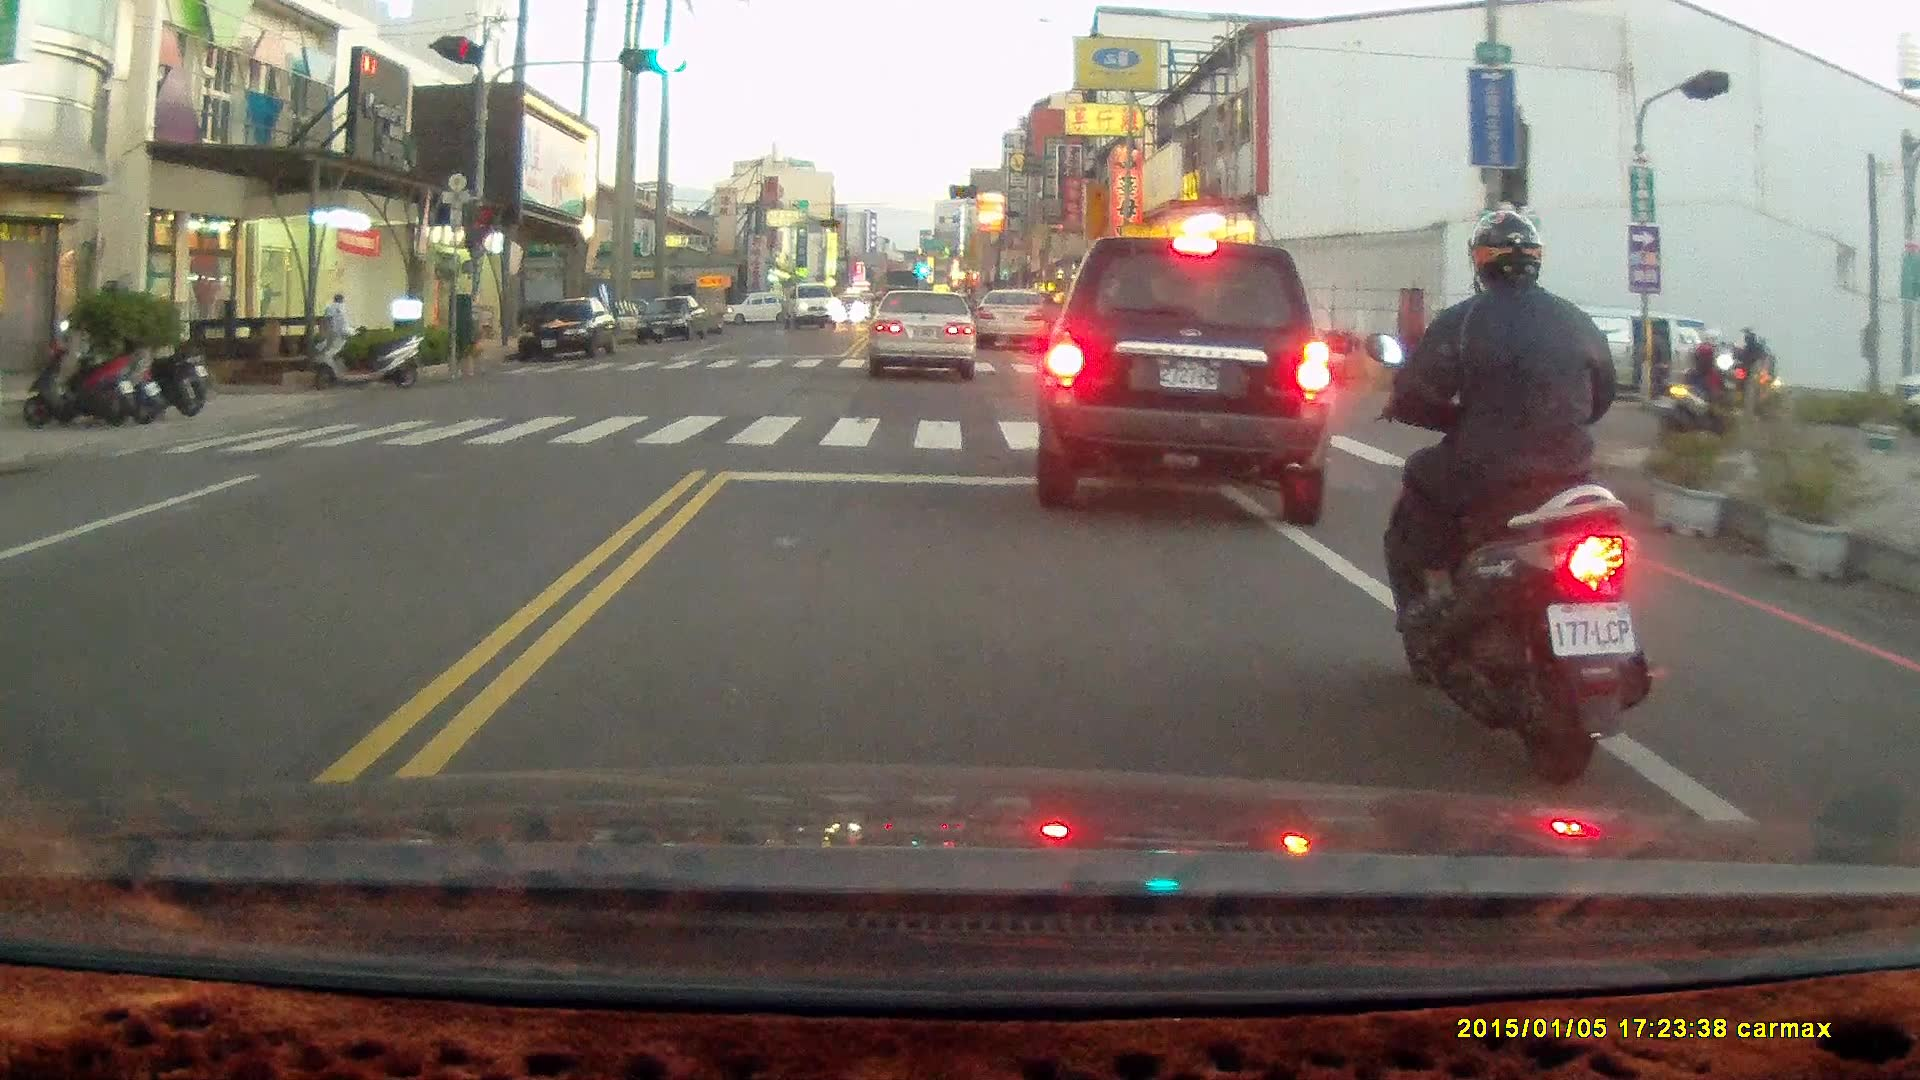pedestrian: (322, 291, 354, 357), (1646, 321, 1669, 397)
rider: (1359, 210, 1653, 783), (1655, 325, 1748, 453), (1698, 322, 1777, 422)
vehicle: (1035, 235, 1333, 527), (867, 294, 980, 389), (517, 299, 613, 364), (973, 286, 1057, 355), (633, 298, 708, 347), (781, 282, 841, 334)
